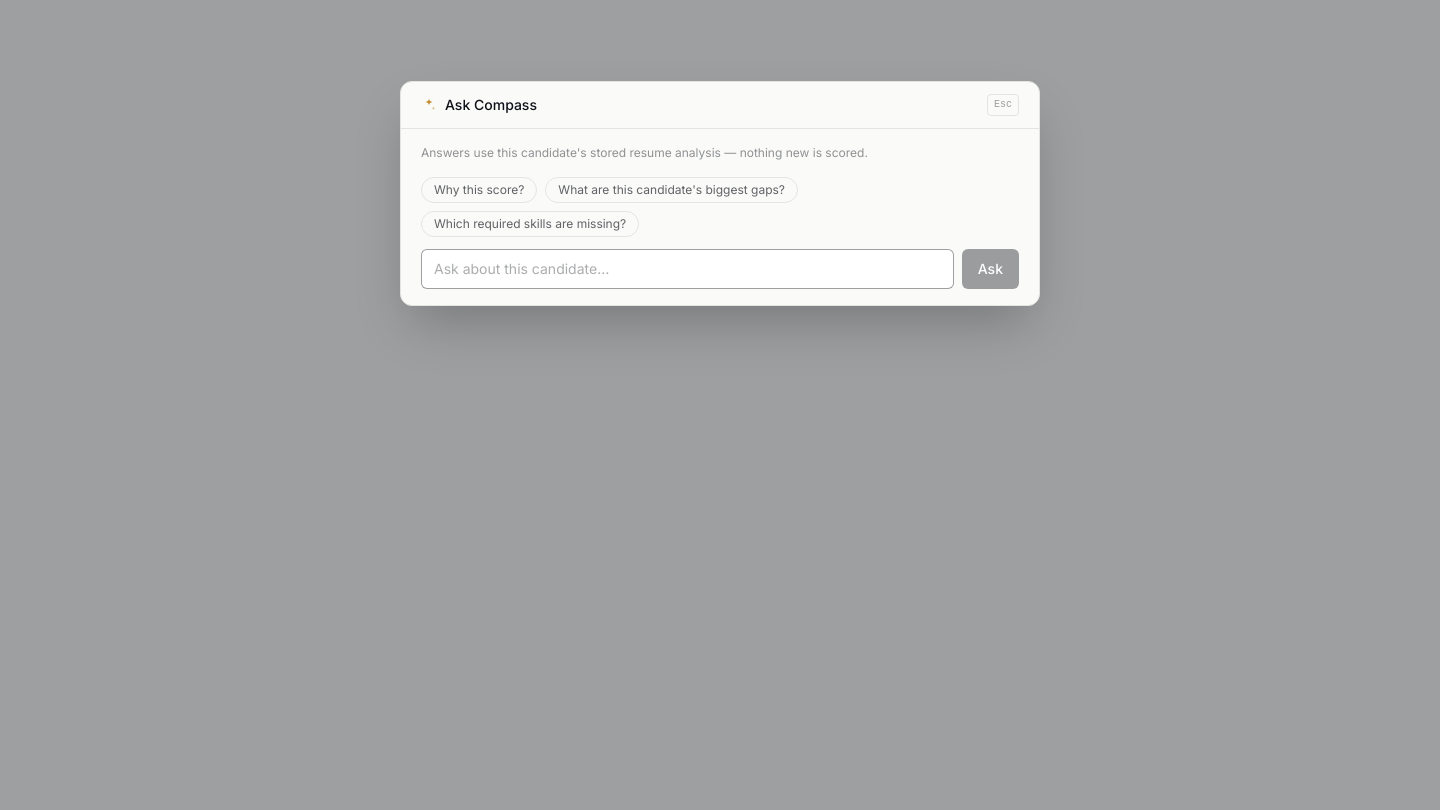
Test: CompassPanel › sends the question with the application it is about, and shows the answer
Click the button "Why this score?": (479, 190) [421, 177, 537, 203]
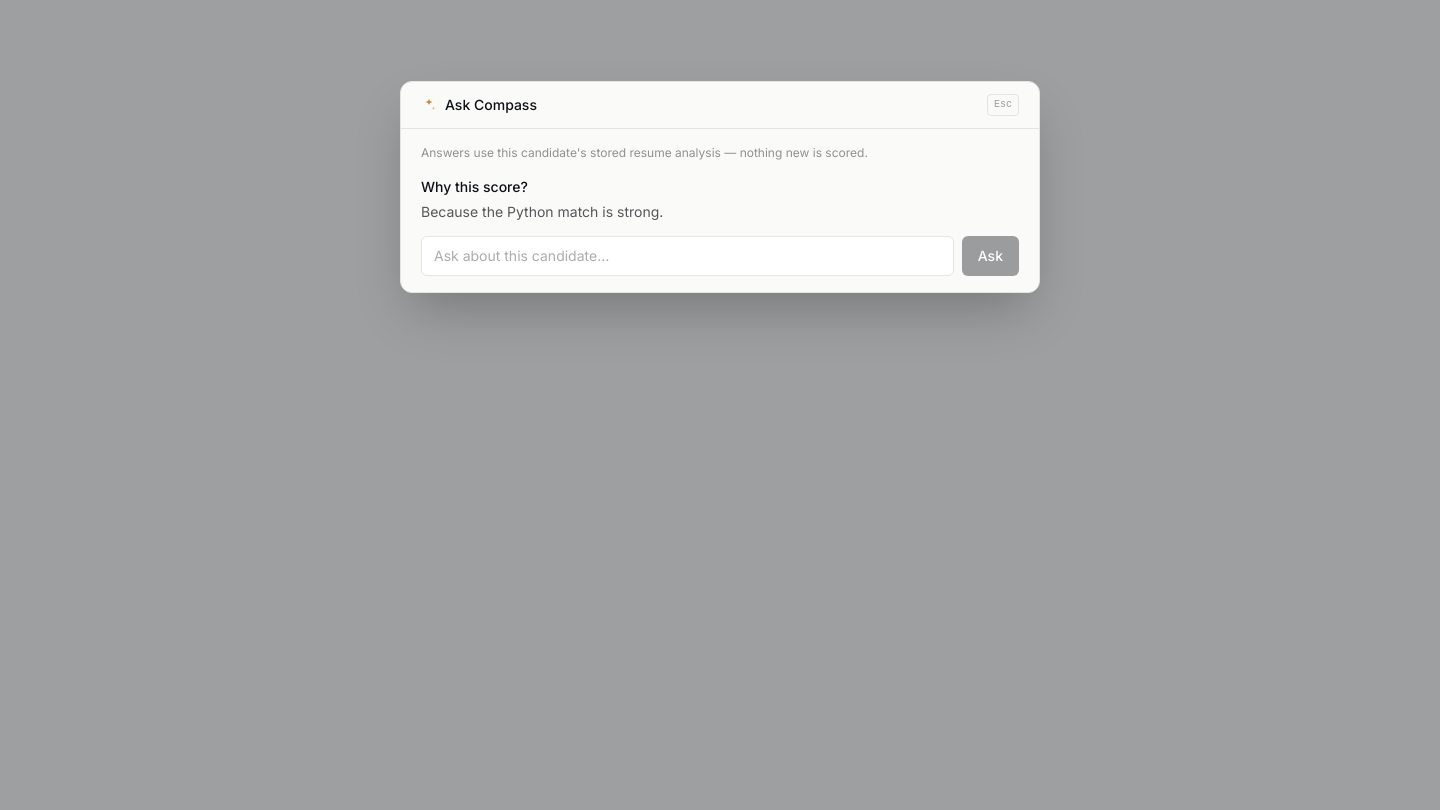
Expected: the text "Because the Python match is strong." is shown, [421, 203, 663, 220]
